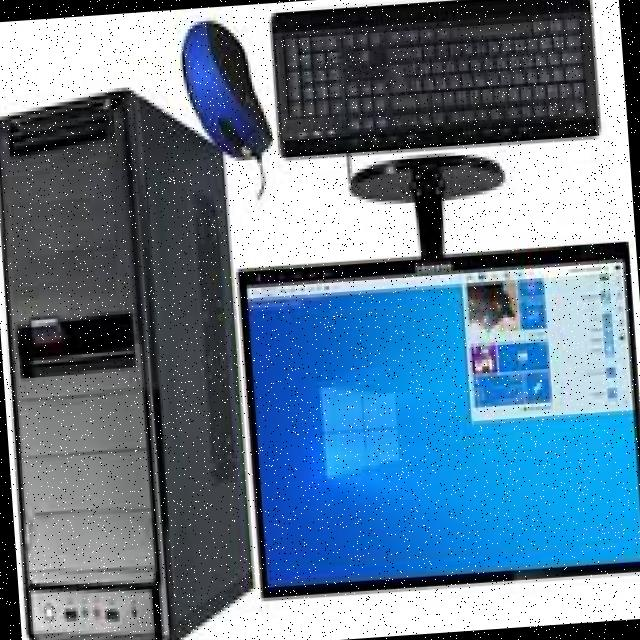Computer: (228, 216, 640, 627), (0, 80, 260, 640)
